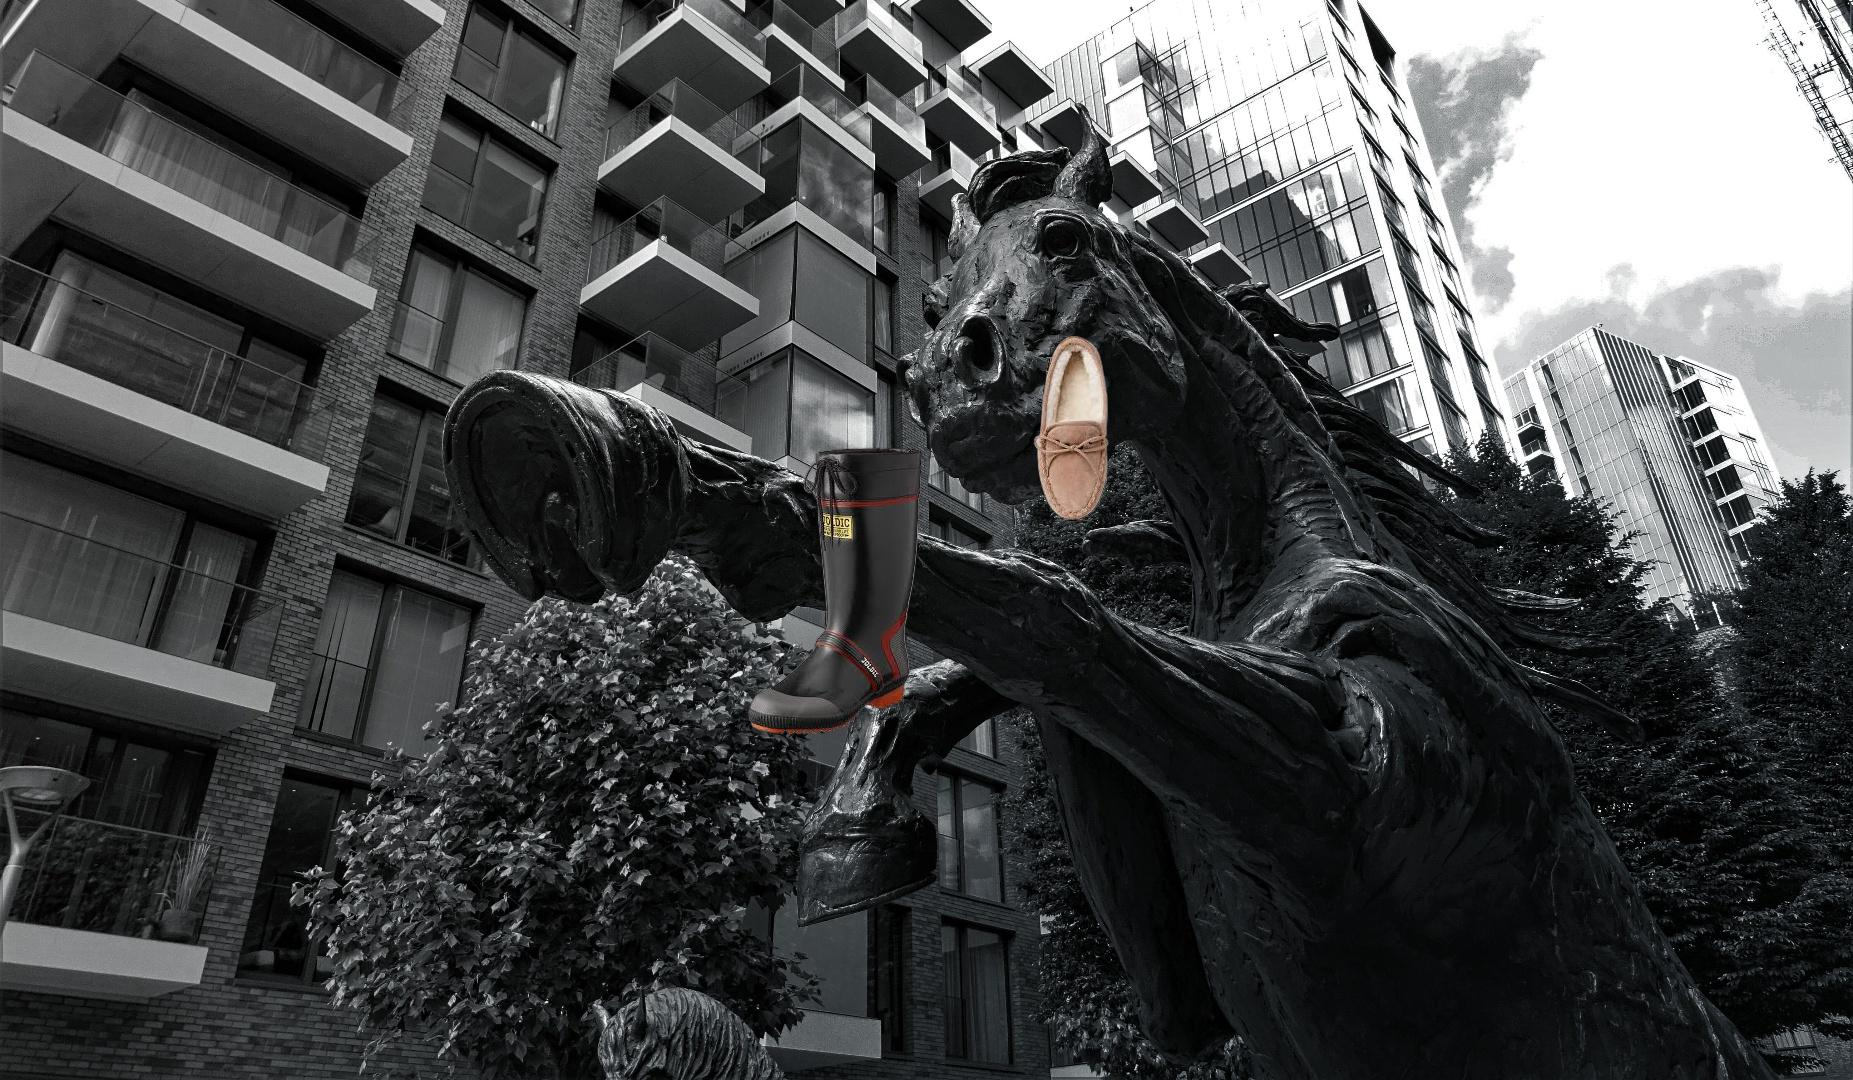shoes: (748, 447, 923, 735), (1031, 333, 1112, 525)
